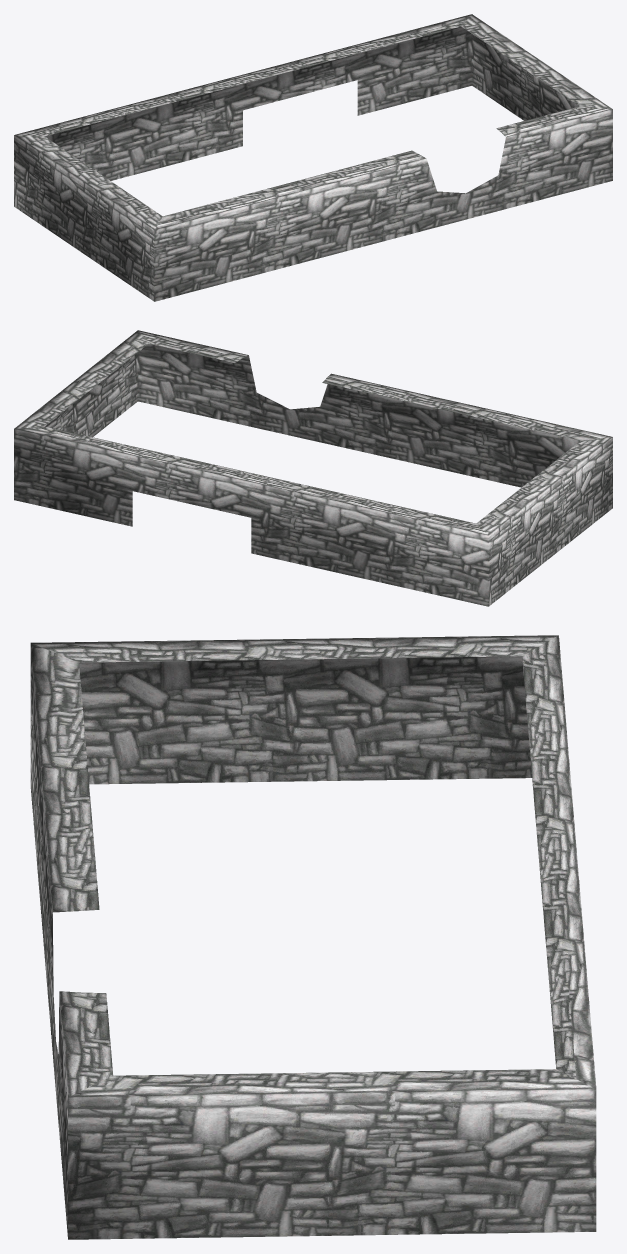
Rendered from HTOWN01_GREENDRAGBASE.fbx.
3 views of the same model, one above another, from view 1: azimuth 30°, elevation 25°; view 2: azimuth 150°, elevation 25°; view 3: azimuth 270°, elevation 25° (orthographic). The views are drawn at different scales.
Parts seen in each view (by area): view 1: HTOWN01_GREENDRAGBASE; view 2: HTOWN01_GREENDRAGBASE; view 3: HTOWN01_GREENDRAGBASE.
Boxes of the visible parts, x1,y1,x2,y2 form: HTOWN01_GREENDRAGBASE: [14, 14, 612, 301]; HTOWN01_GREENDRAGBASE: [14, 330, 612, 606]; HTOWN01_GREENDRAGBASE: [30, 635, 596, 1239].
Size of the model in its own units: 93612 by 13460 by 48449.
1 material, 1 textured.
